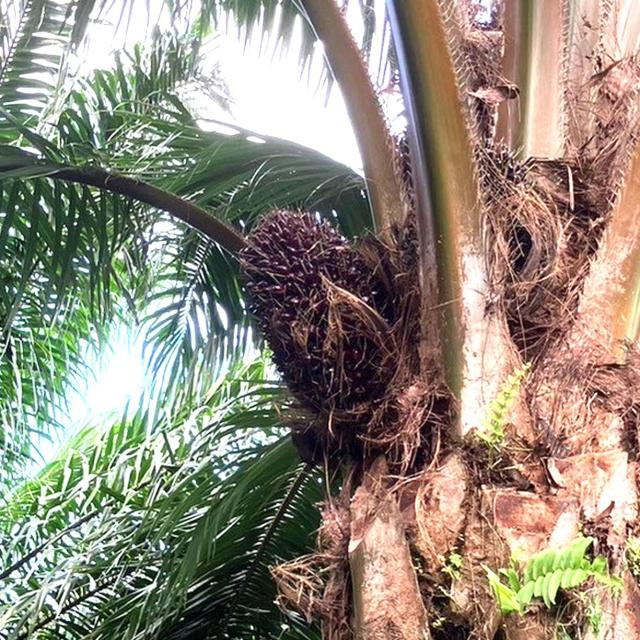ripe: (242, 208, 384, 427)
